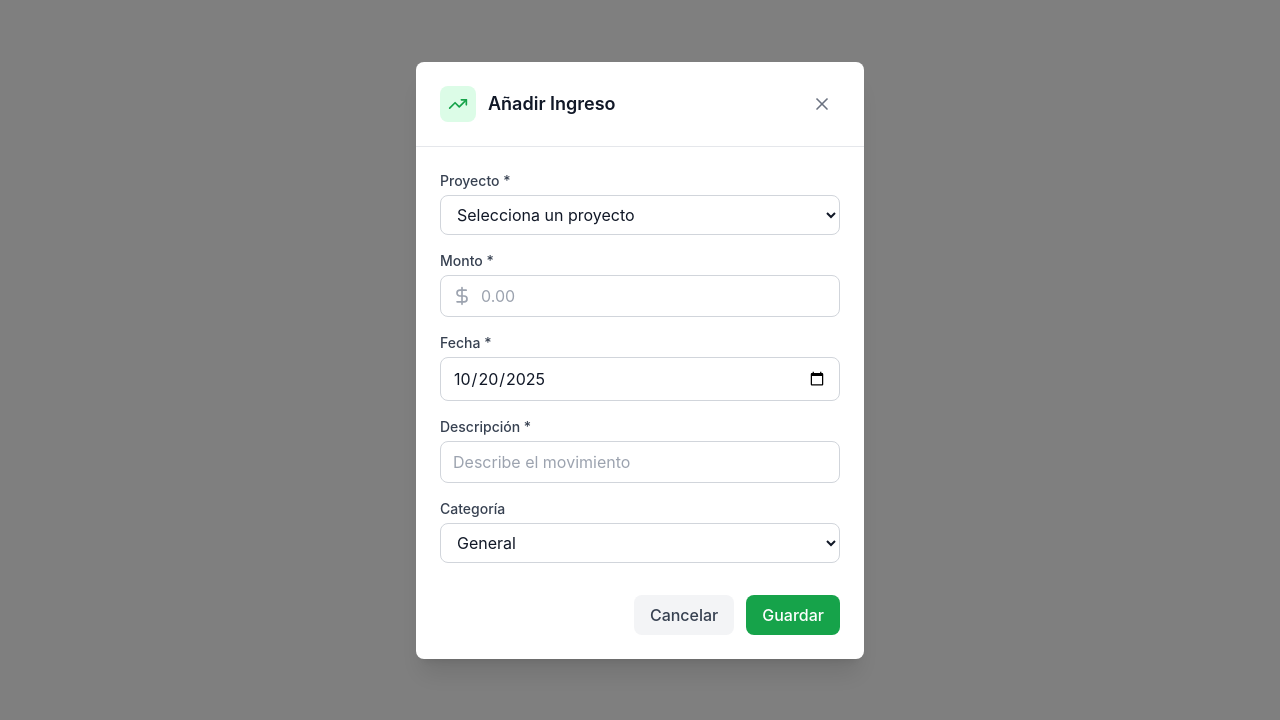
it: FinanceModal › Amount Input Formatting › should allow only numbers and decimal point in amount field
Type "abc123.45xyz" into the field labelled "Monto *".
click(640, 296); type("abc123.45xyz")  # box [440,274,840,316]
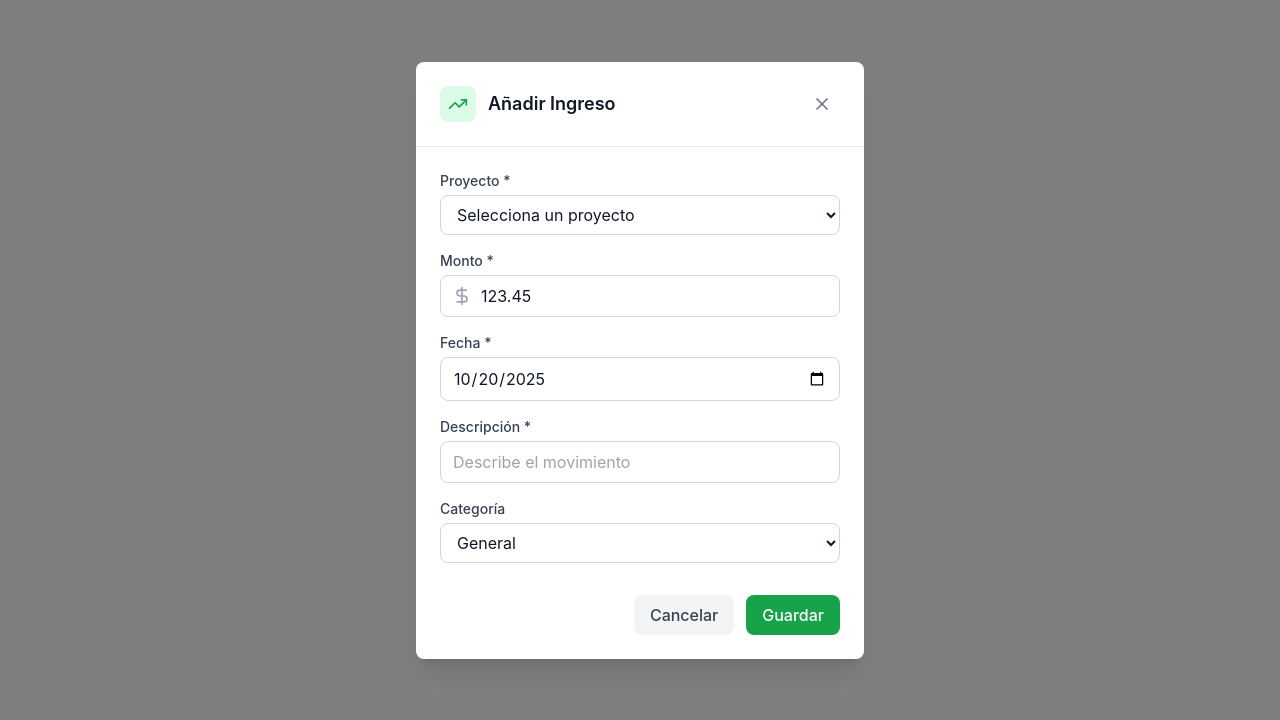
expect the field labelled "Monto *" holds "123.45": met, box [440,274,840,316]
